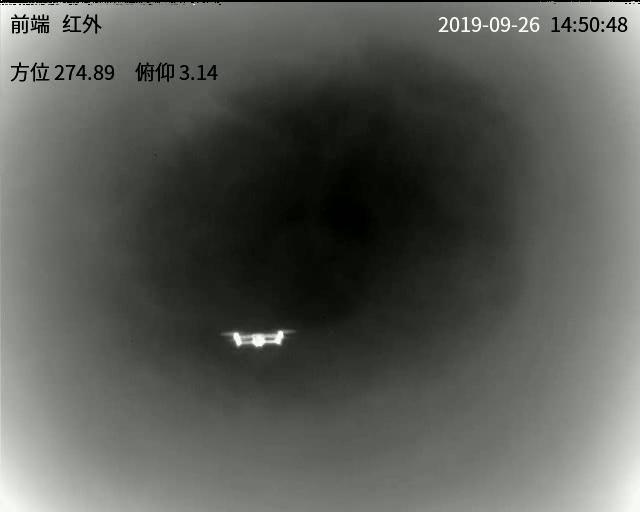DRONE: (226, 328, 287, 347)
